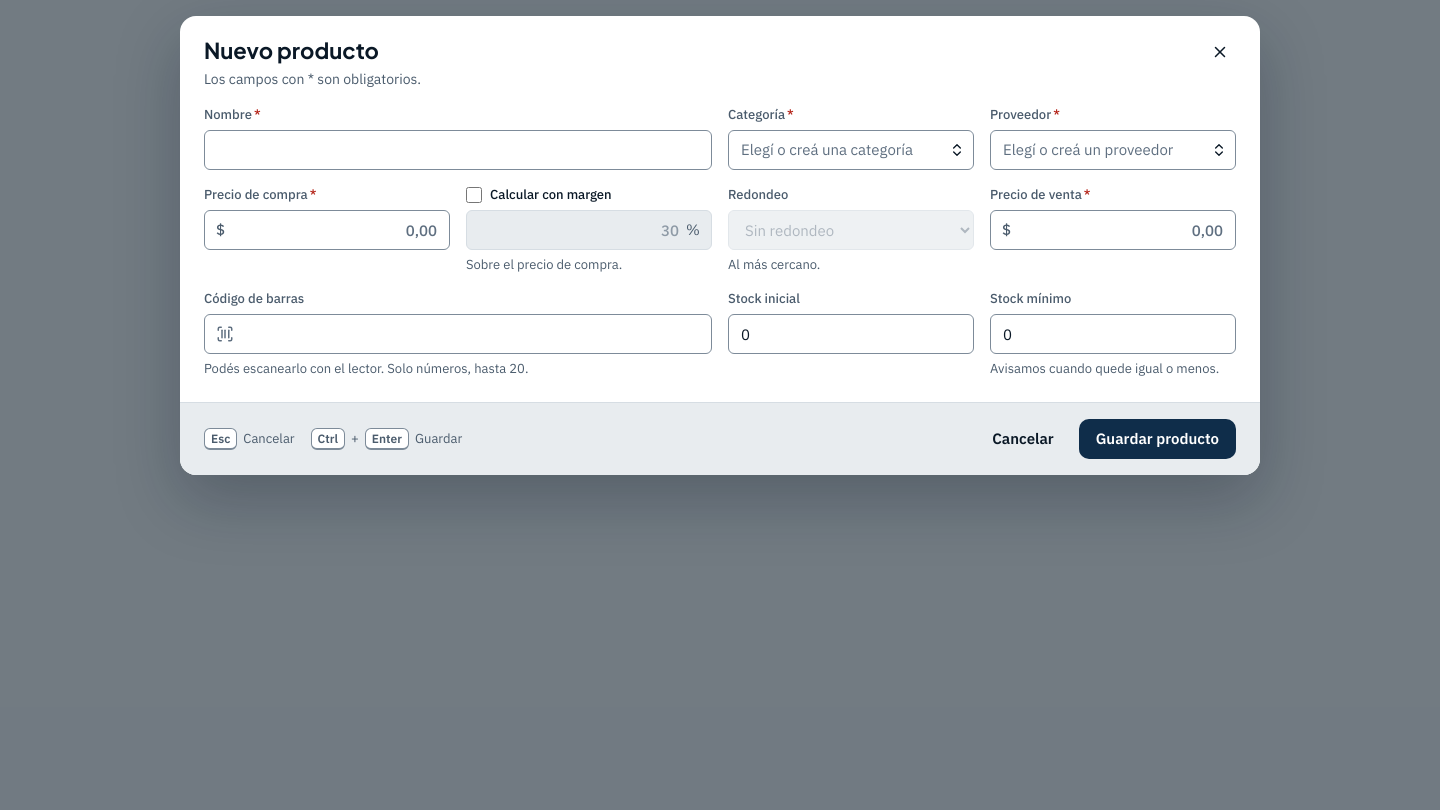
Scenario: Modo creación (sin product prop) › un error genérico del backend muestra el aviso sin cerrar el modal
The width and height of the screenshot is (1440, 810).
Type "Producto Test" into the field labelled "Nombre*". click: (458, 150)
box: x1=204 y1=130 x2=712 y2=170
Type "50" into the field labelled "Precio de compra*". click: (327, 230)
box: x1=204 y1=210 x2=450 y2=250
Type "80" into the field labelled "Precio de venta*". click: (1113, 230)
box: x1=990 y1=210 x2=1236 y2=250
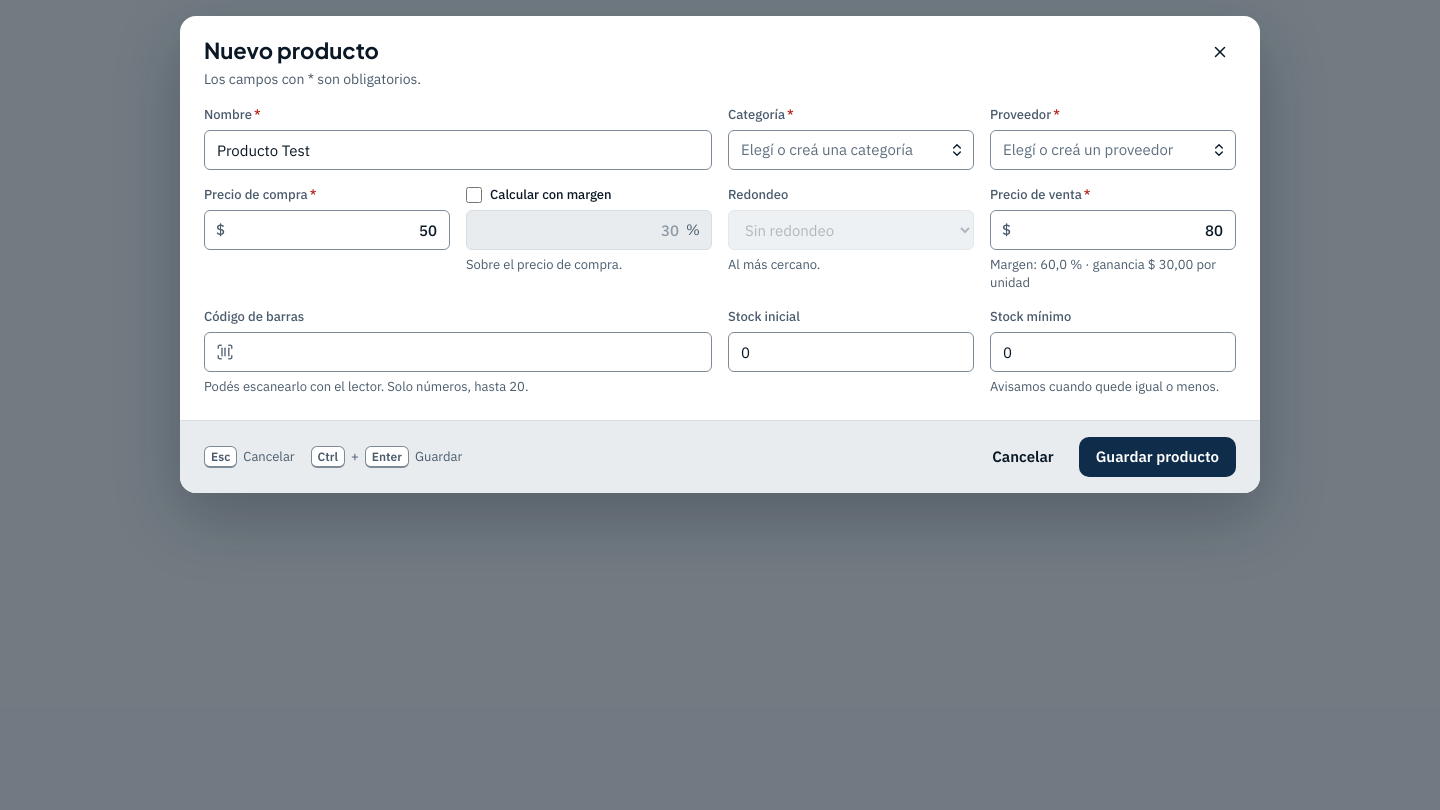
Click the button "Elegí o creá una categoría". click: (851, 150)
box: x1=728 y1=130 x2=974 y2=170
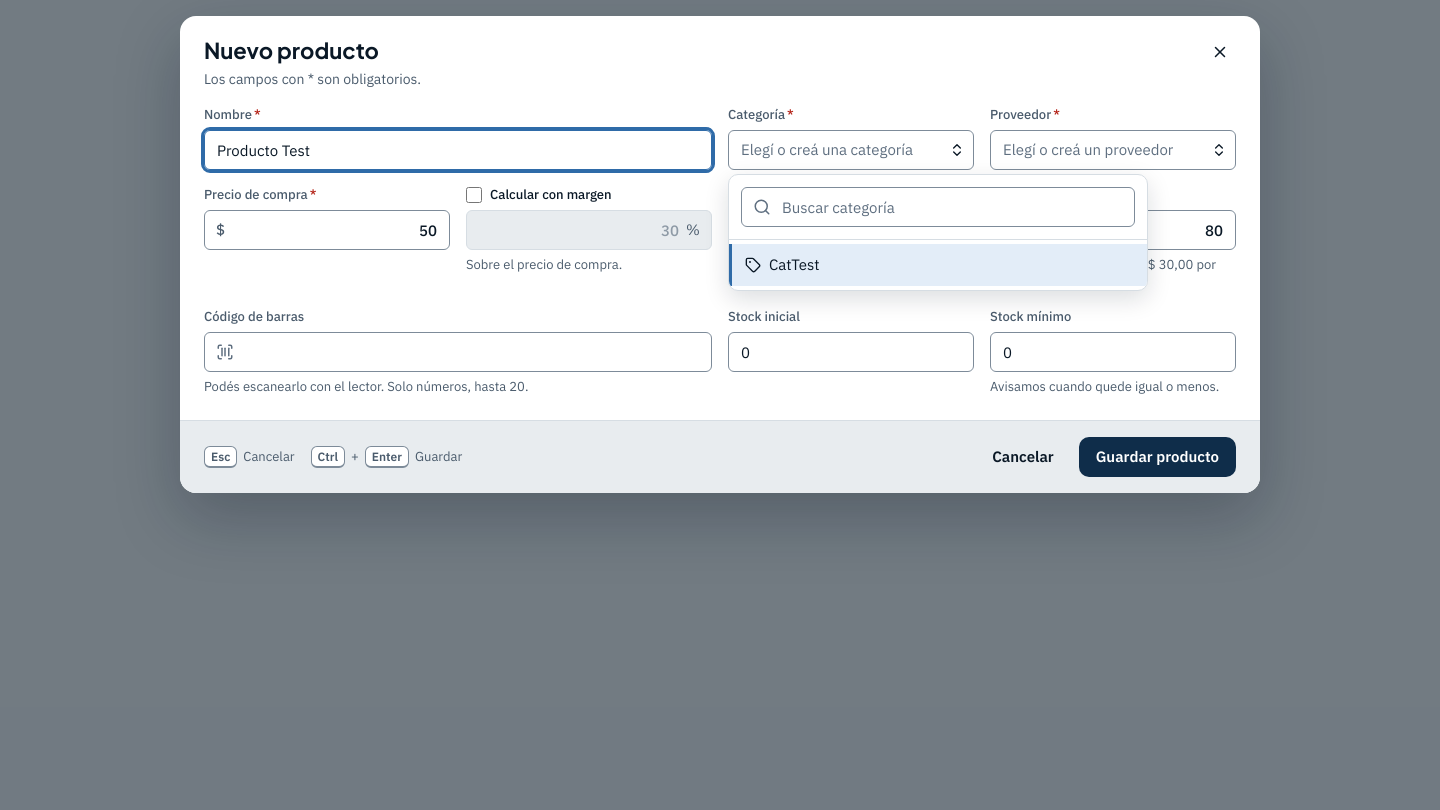
Click the option "CatTest". click: (794, 264)
box: x1=729 y1=244 x2=1147 y2=286
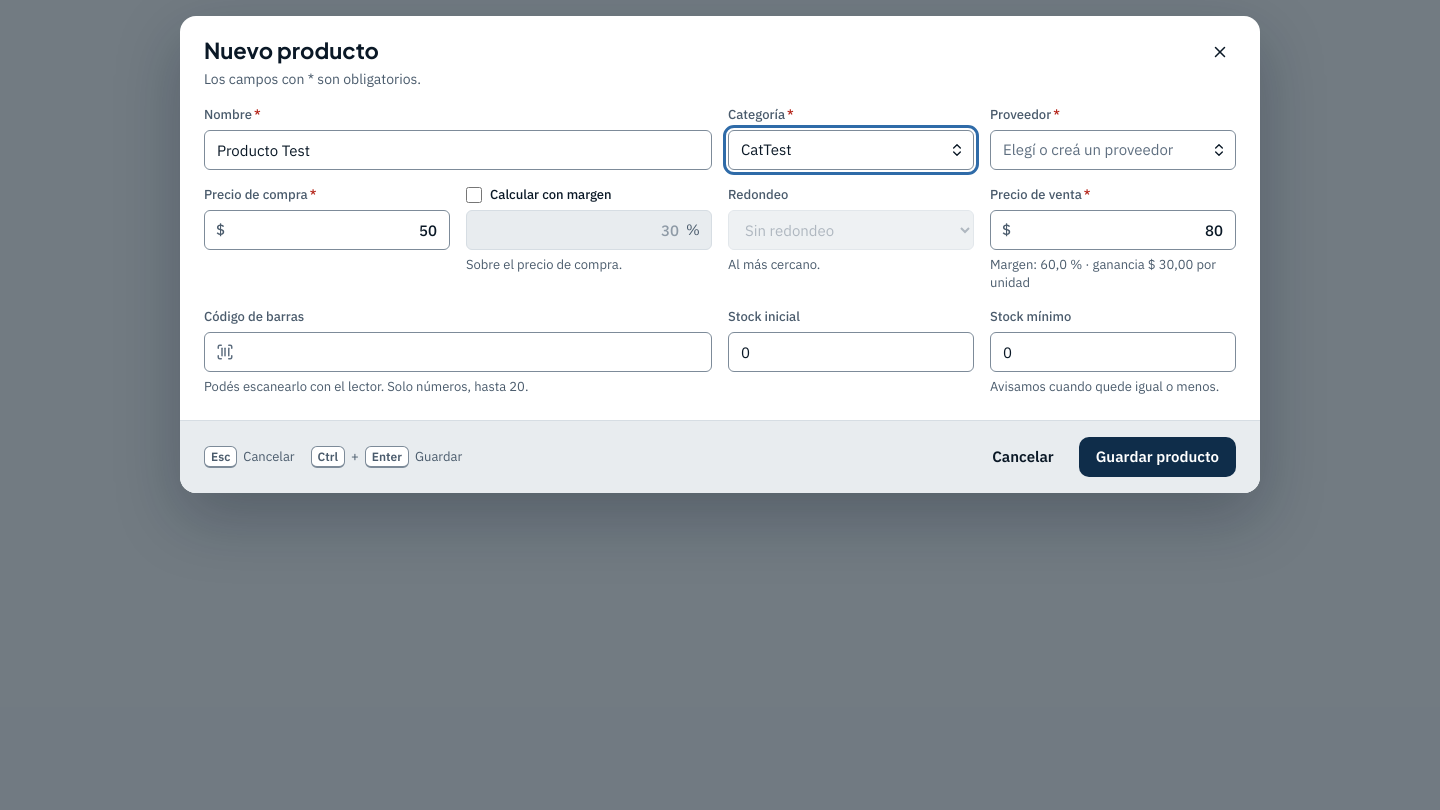
Click the button "Elegí o creá un proveedor". click: (1113, 150)
box: x1=990 y1=130 x2=1236 y2=170
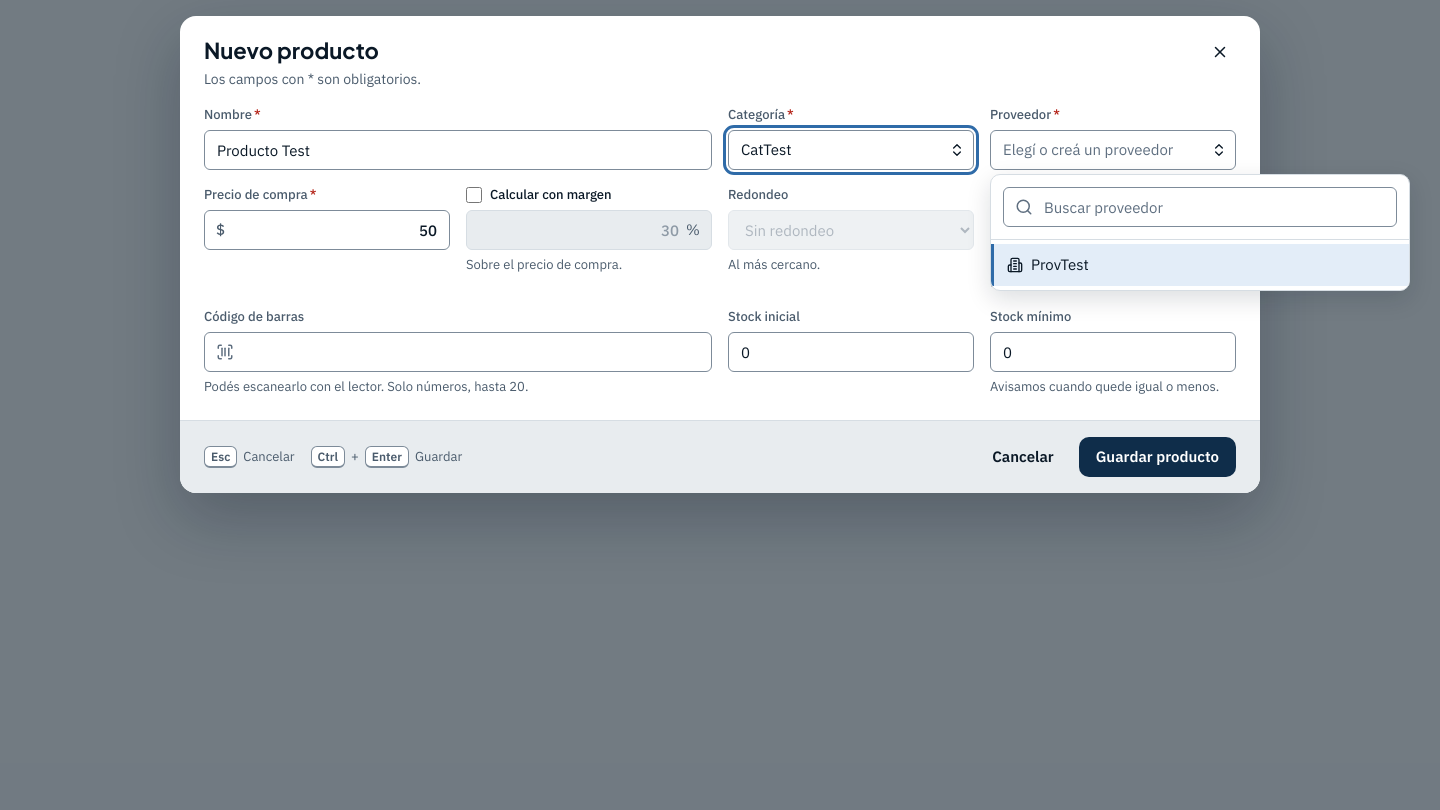
Click the option "ProvTest". click: (1060, 264)
box: x1=991 y1=244 x2=1409 y2=286
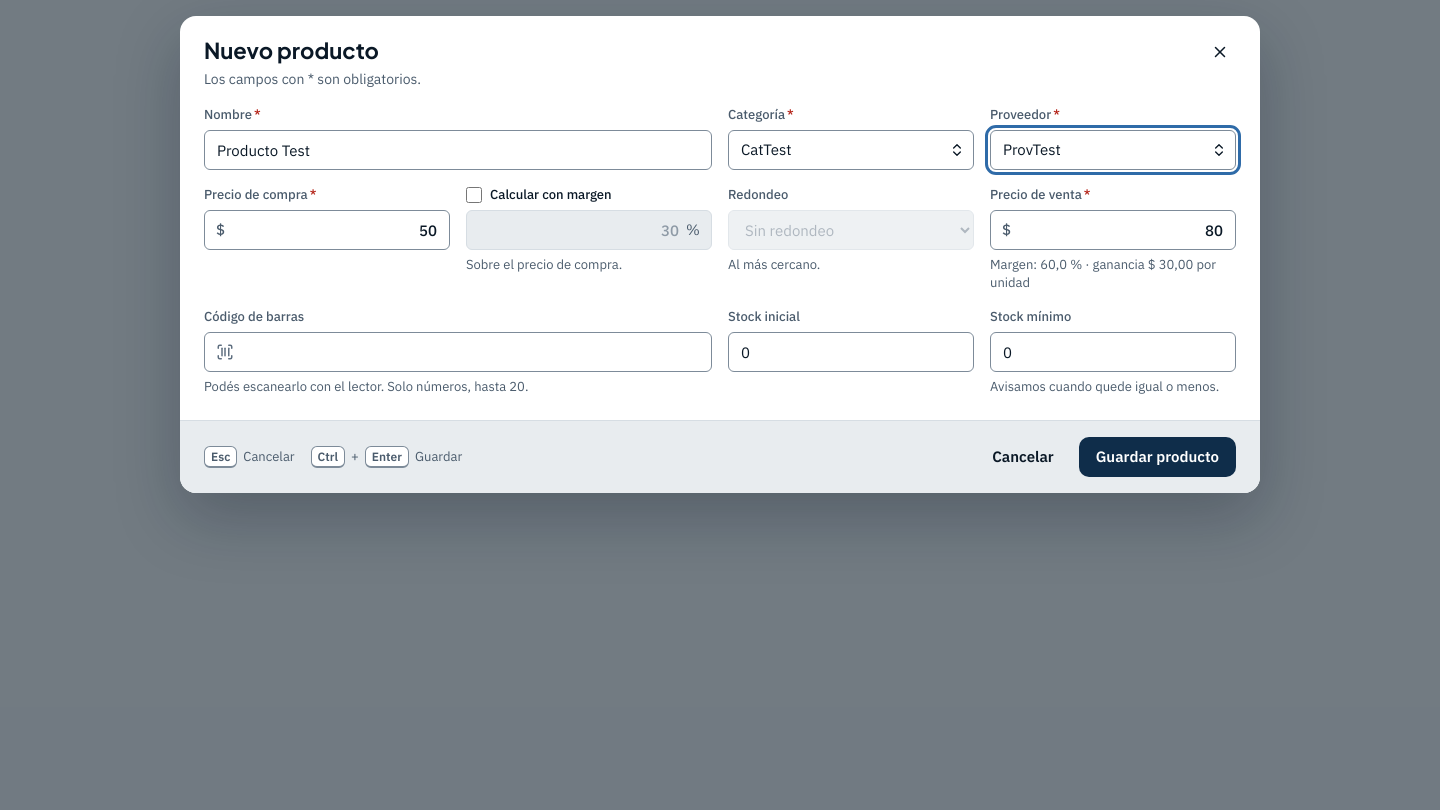
Click the button "Guardar producto". click: (1157, 457)
box: x1=1079 y1=437 x2=1236 y2=477
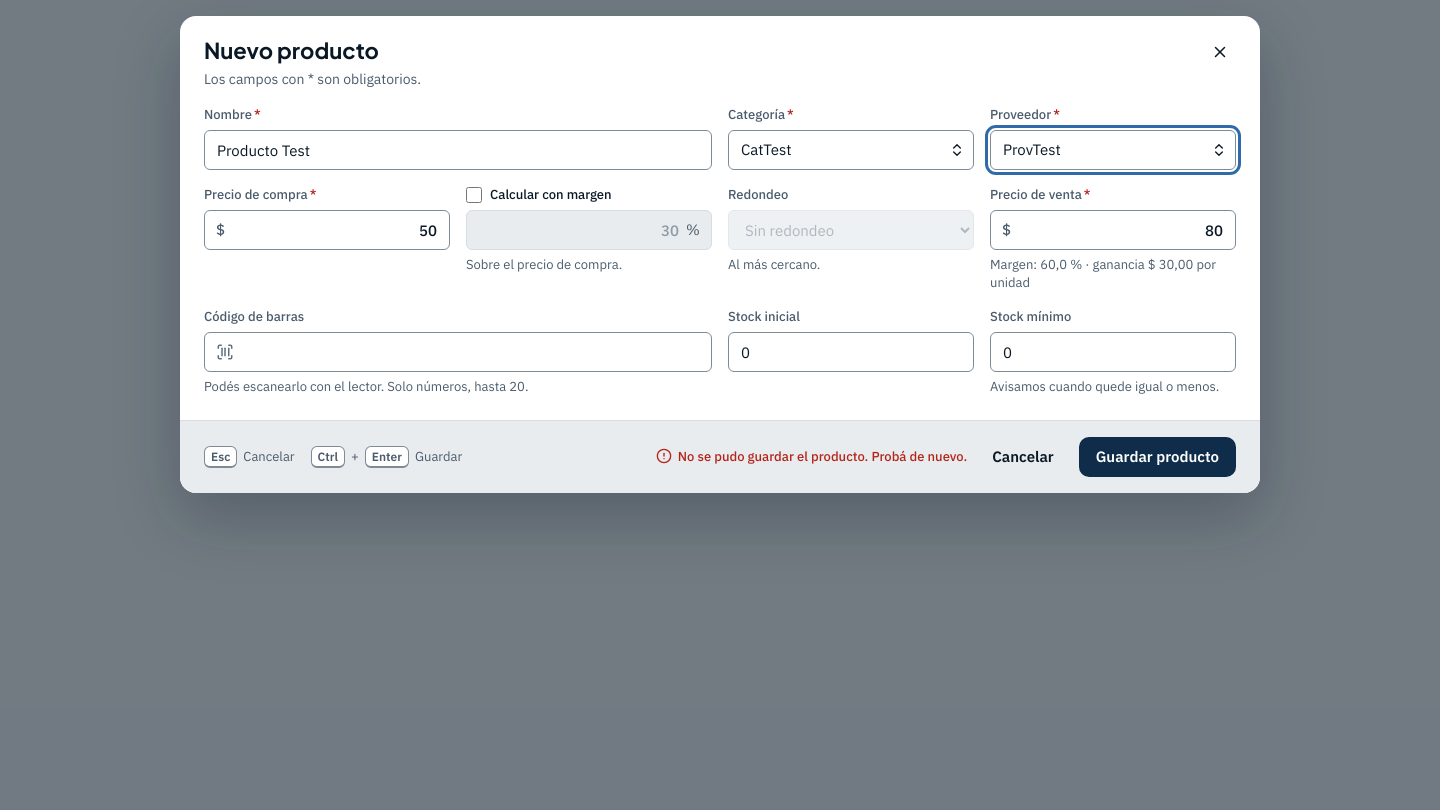
Expected: the dialog "Nuevo producto" is shown, x1=180 y1=16 x2=1260 y2=493
Expected: the text "No se pudo guardar el producto. Probá de nuevo." is shown, x1=656 y1=448 x2=967 y2=466
